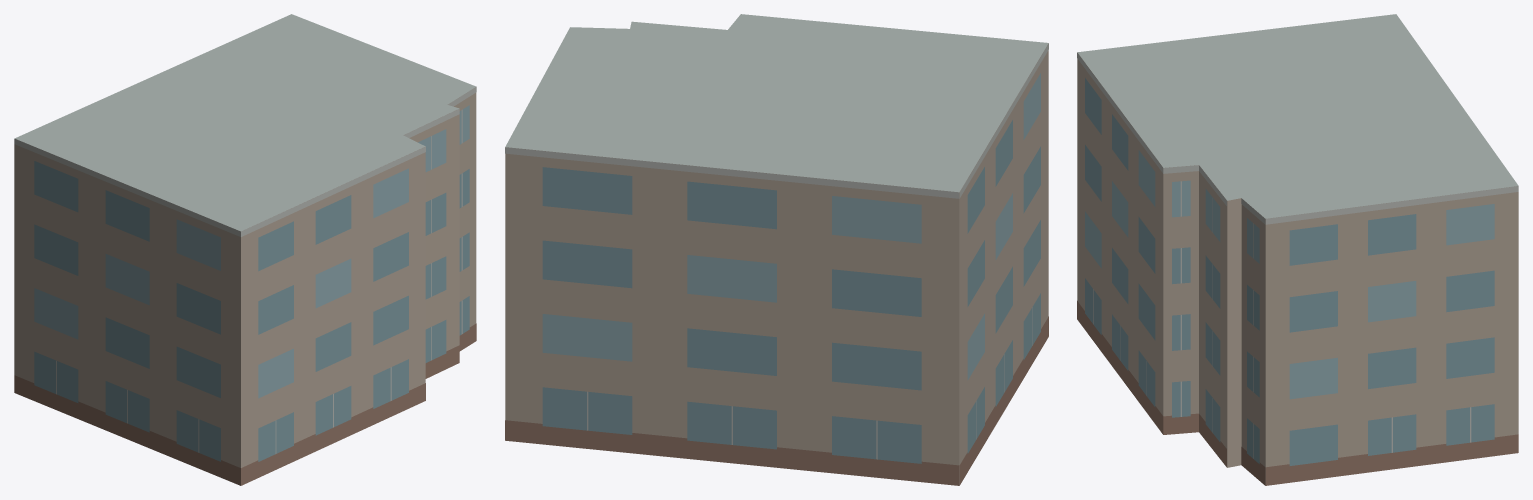
The model's file is survey-upis-32968427.glb.
3 views of the same model, side by side, from view 1: azimuth 30°, elevation 25°; view 2: azimuth 150°, elevation 25°; view 3: azimuth 270°, elevation 25° (orthographic). The views are drawn at different scales.
Parts seen in each view (by area): view 1: survey-upis-32968427.tmp; view 2: survey-upis-32968427.tmp; view 3: survey-upis-32968427.tmp.
Part boxes in pixels (bbox=[...]): survey-upis-32968427.tmp: bbox=[14, 14, 476, 485]; survey-upis-32968427.tmp: bbox=[505, 14, 1048, 485]; survey-upis-32968427.tmp: bbox=[1077, 14, 1518, 485].
Size of the model in its own units: 17.93 by 10.9 by 16.34.
